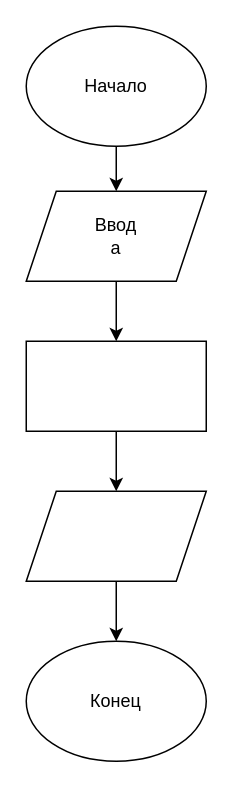
Image size: 233x788. Some labels were removed from this diagram. The centre of each missing label's shape, as x and y in pixels:
"symbol = chr(a + 96)" goes at (115,385).
"Вывод symbol" goes at (115,535).
